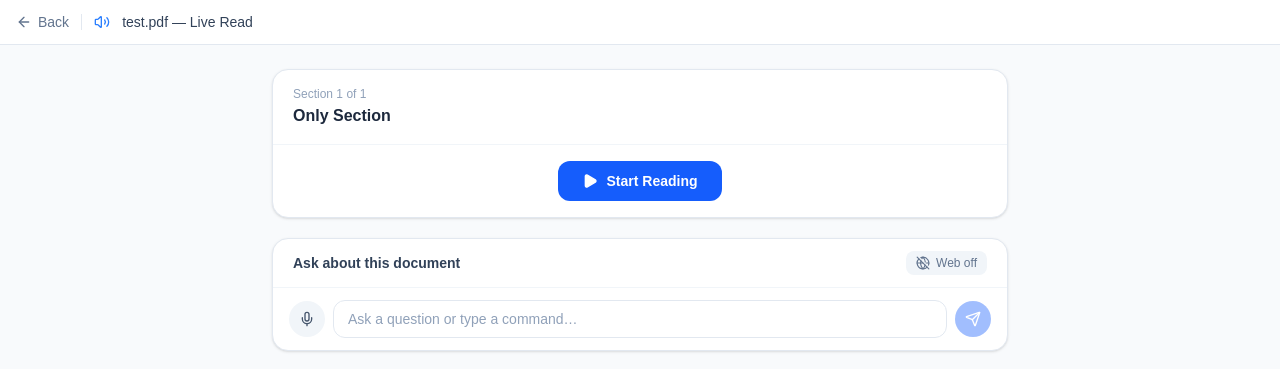
Scenario: LiveReader — reducer › shows 'All sections read.' when all sections complete
The width and height of the screenshot is (1280, 369).
Click the button "Start Reading" at (640, 181), box [558,161,722,201]
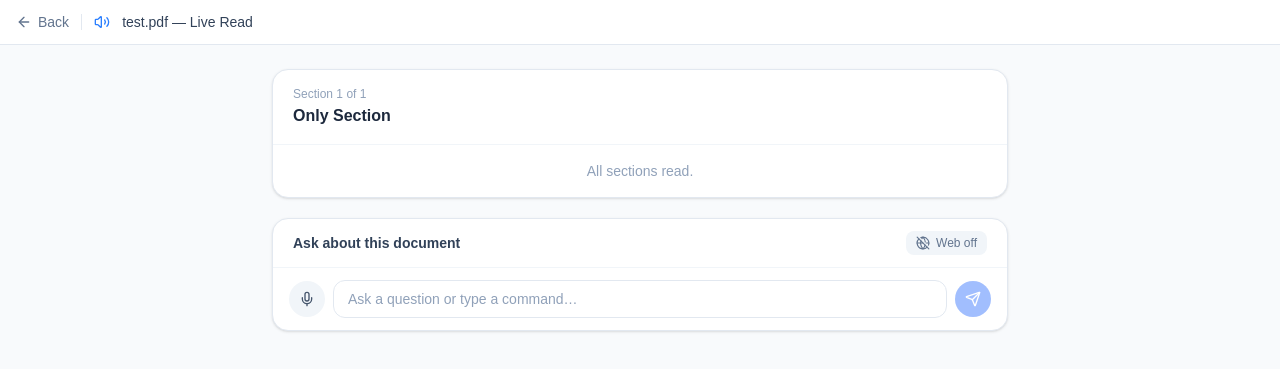
Now the text "All sections read." is shown, box [587,161,693,181]
